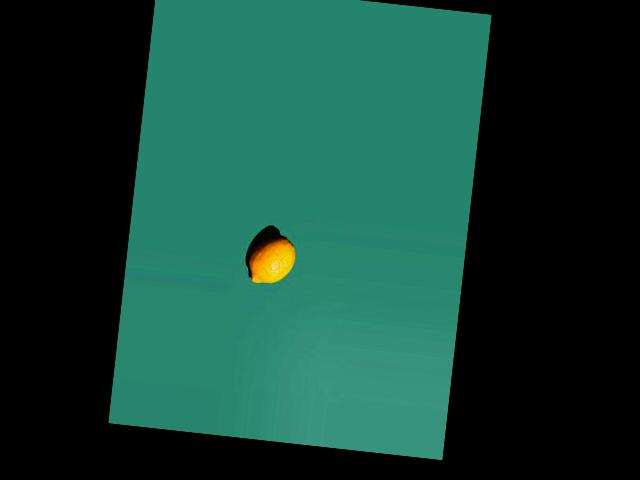lemon: (236, 217, 308, 296)
